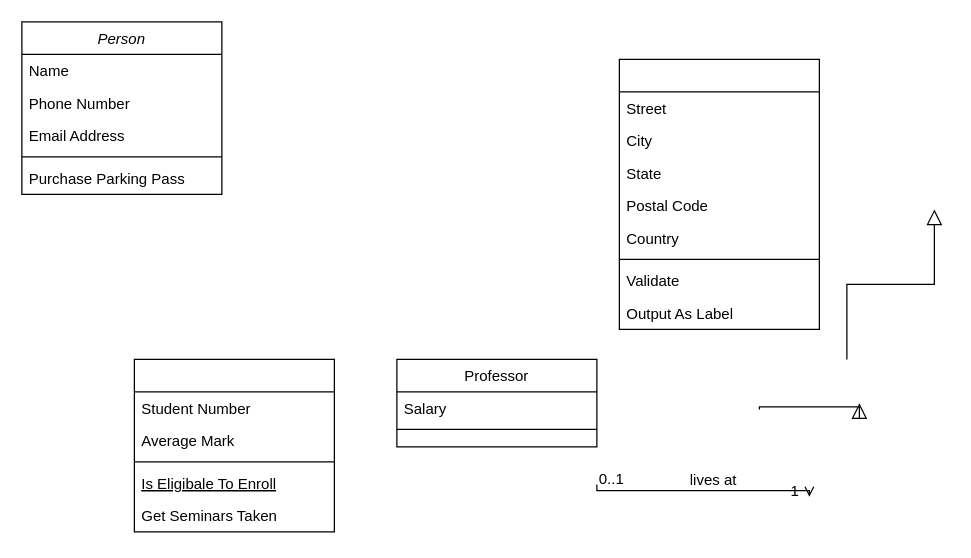
Some shapes in this 971 by 558 pixel diagram are drawn without their labels. The box of each missing label's shape, as (x1, y1, x2, y2) in pixels:
Customer: (618, 58, 819, 329)
PreferredCustomer: (133, 358, 334, 532)
